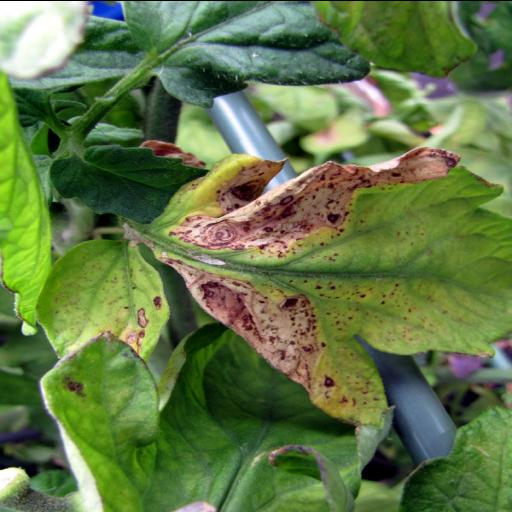Early Blight: (146, 146, 512, 422), (34, 237, 172, 363)
